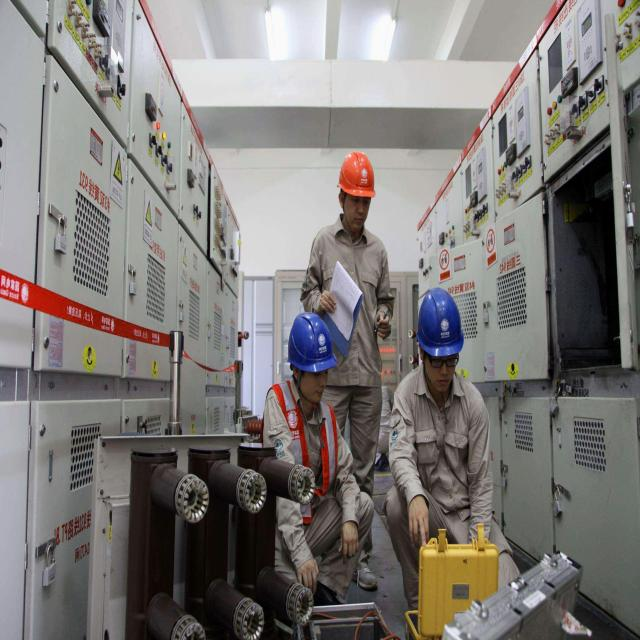face_nomask: (428, 346, 458, 392), (298, 364, 330, 401), (342, 193, 372, 232)
glasses: (427, 353, 461, 372)
hand_noglove: (402, 487, 436, 549), (290, 555, 321, 598), (337, 522, 363, 559), (372, 310, 393, 344), (319, 286, 338, 321)
head_helmet: (418, 287, 464, 356), (289, 310, 330, 372), (336, 149, 378, 196)
person: (390, 293, 494, 535), (281, 312, 356, 604), (330, 136, 392, 426)
vest: (268, 383, 336, 483)
